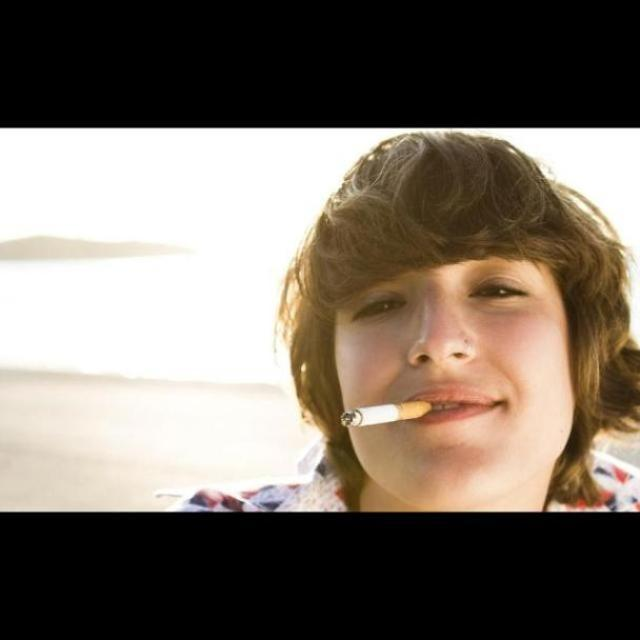rokok: (332, 388, 442, 432)
